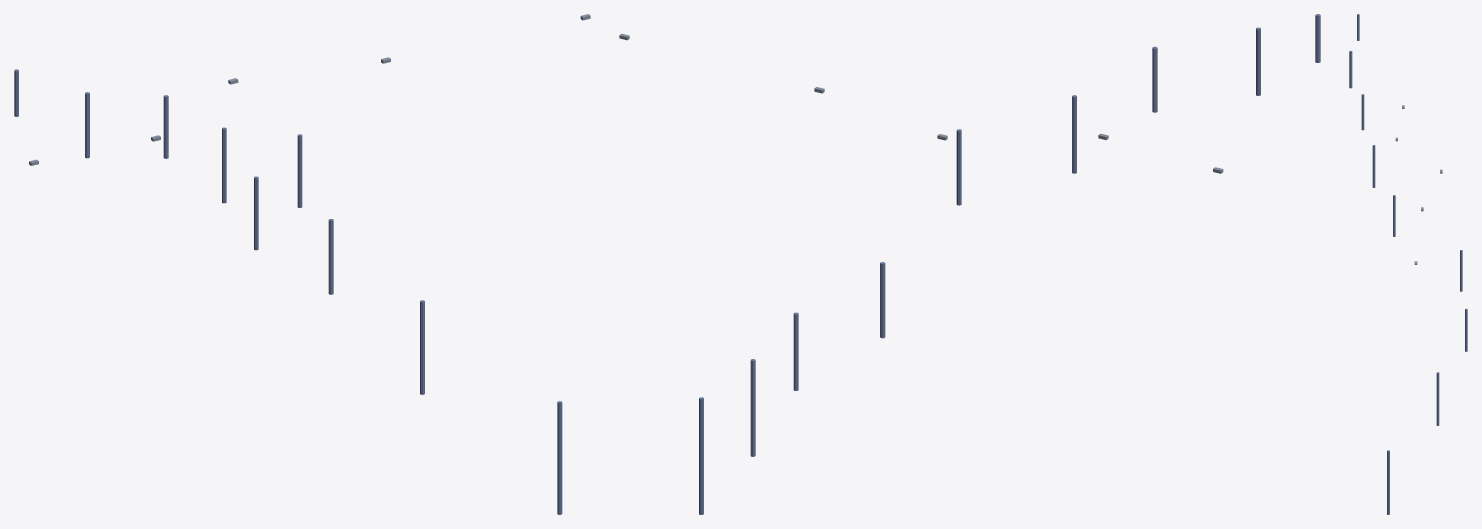
The model's file is cable_system.glb.
The picture shows the model from 3 angles, left to right: view 1: azimuth 30°, elevation 25°; view 2: azimuth 150°, elevation 25°; view 3: azimuth 270°, elevation 25°; orthographic projection. The views are drawn at different scales.
Visible parts, largest first — view 1: GroundCables; view 2: GroundCables; view 3: GroundCables.
Boxes of the visible parts, bbox=[...] form: GroundCables: bbox=[14, 69, 562, 514]; GroundCables: bbox=[699, 14, 1320, 514]; GroundCables: bbox=[1349, 14, 1467, 514].
Size of the model in its own units: 12.9 by 11.86 by 3.72.
